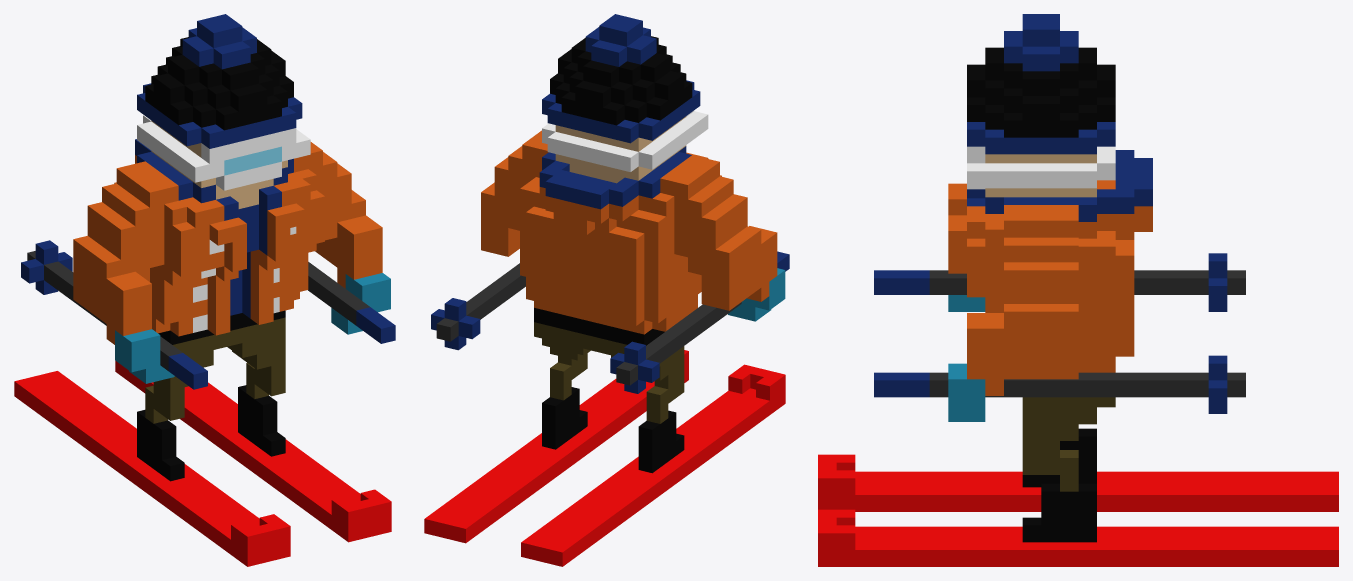
File: Saut_6_Frame_00.obj
3 renders of one model, left to right at view 1: azimuth 30°, elevation 25°; view 2: azimuth 150°, elevation 25°; view 3: azimuth 270°, elevation 25°, orthographic. The views are drawn at different scales.
Size of the model in its own units: 18 by 30 by 28.
1 material, 1 textured.
